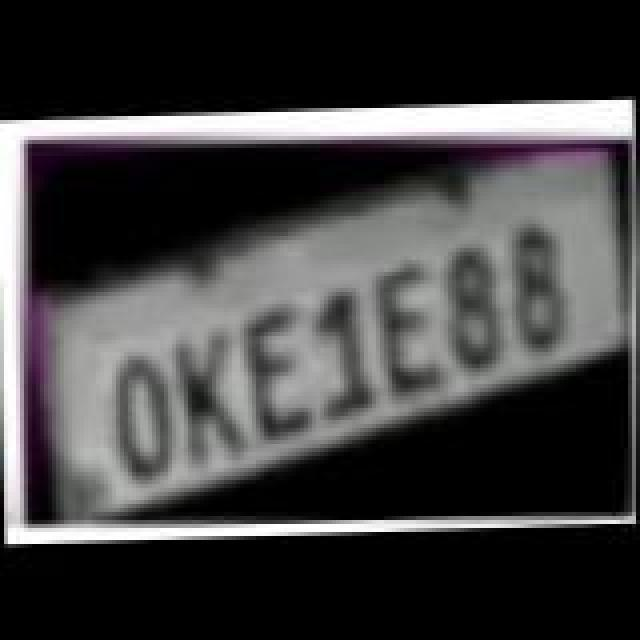1: (300, 286, 388, 426)
8: (432, 236, 516, 376), (496, 218, 580, 358)
E: (368, 258, 460, 398), (236, 302, 324, 446)
K: (168, 324, 256, 468)
O: (104, 350, 188, 486)
